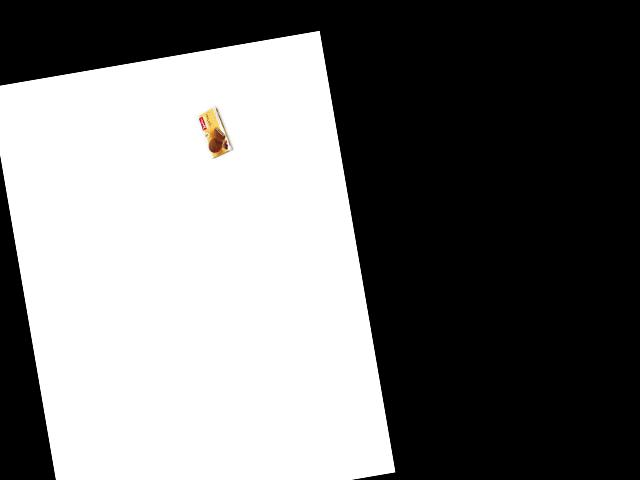chocolate: (195, 98, 229, 163)
